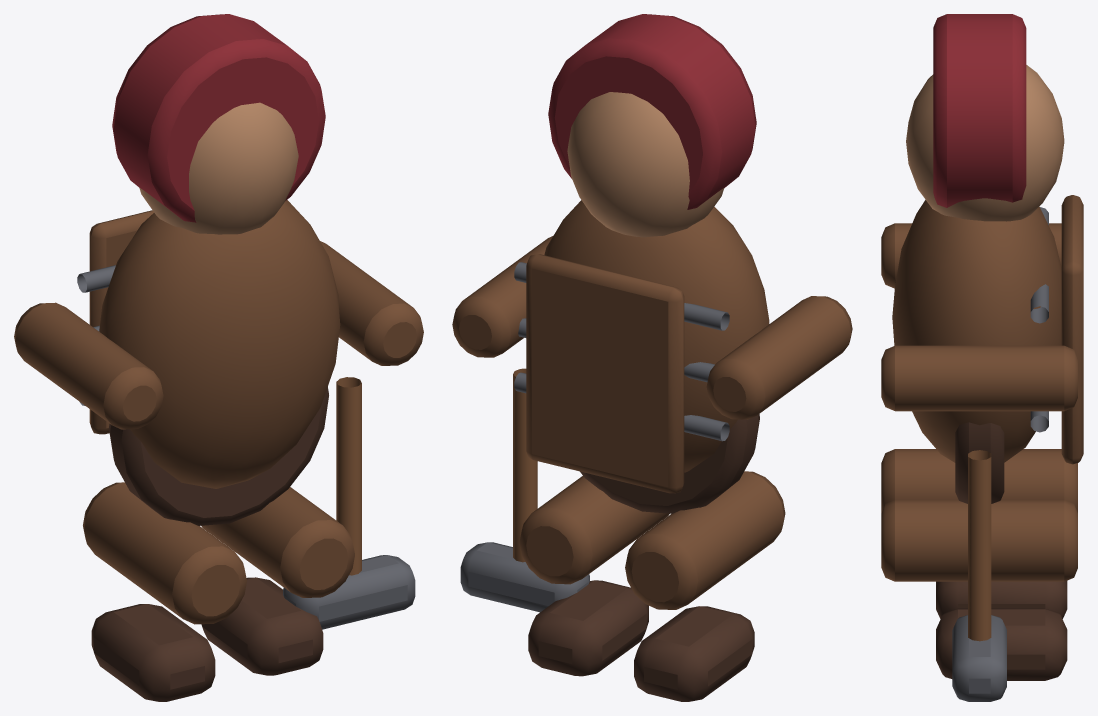
Rendered from worker.glb.
3 renders of one model, left to right at view 1: azimuth 30°, elevation 25°; view 2: azimuth 150°, elevation 25°; view 3: azimuth 270°, elevation 25°, orthographic. The views are drawn at different scales.
Visible parts, largest first — view 1: TorsoMesh, Hood, LeftLegMesh, Head, LeftArmMesh, RightLegMesh, LeftLegBoot, Belt, RightLegBoot, RightArmMesh, HammerHead, WeaponHandle (+2 smaller); view 2: Apron, Hood, TorsoMesh, Head, LeftLegMesh, LeftArmMesh, RightLegMesh, LeftLegBoot, RightLegBoot, Belt, RightArmMesh, HammerHead (+3 smaller); view 3: TorsoMesh, Hood, RightLegMesh, RightArmMesh, Head, LeftLegMesh, RightLegBoot, Apron, WeaponHandle, HammerHead, LeftLegBoot, Belt (+3 smaller).
Boxes of the visible parts, x1,y1,x2,y2 form: TorsoMesh: (99, 200, 340, 488); Hood: (112, 14, 325, 222); LeftLegMesh: (83, 482, 246, 624); Head: (139, 102, 298, 234); LeftArmMesh: (14, 302, 163, 429); RightLegMesh: (201, 487, 354, 597); LeftLegBoot: (91, 604, 215, 701); Belt: (109, 387, 328, 525); RightLegBoot: (201, 577, 323, 675); RightArmMesh: (320, 241, 423, 365); HammerHead: (283, 555, 415, 629); WeaponHandle: (336, 377, 361, 575); Apron: (526, 254, 684, 493); Hood: (548, 14, 756, 209); TorsoMesh: (544, 200, 769, 472); Head: (567, 92, 724, 237); LeftLegMesh: (625, 471, 785, 609); LeftArmMesh: (706, 296, 852, 419); RightLegMesh: (519, 476, 669, 584); LeftLegBoot: (634, 606, 754, 701); RightLegBoot: (528, 580, 648, 676); Belt: (580, 414, 759, 513); RightArmMesh: (452, 236, 552, 357); HammerHead: (460, 542, 589, 612); TorsoMesh: (892, 200, 1061, 462); Hood: (933, 14, 1026, 207); RightLegMesh: (881, 500, 1077, 581); RightArmMesh: (881, 345, 1077, 411); Head: (906, 65, 1064, 221); LeftLegMesh: (881, 449, 1077, 512); RightLegBoot: (936, 608, 1067, 680); Apron: (1061, 195, 1083, 464); WeaponHandle: (968, 450, 991, 641); HammerHead: (952, 615, 1006, 701); LeftLegBoot: (936, 581, 1067, 618); Belt: (955, 422, 1004, 503).
Size of the model in its own units: 1.42 by 2.52 by 0.74.
